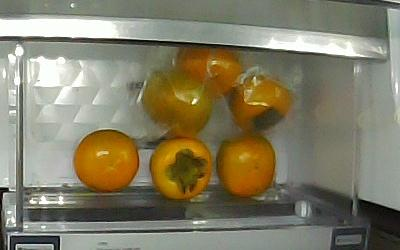persimmon: (74, 128, 139, 193), (148, 138, 212, 199), (217, 135, 277, 200)
persimmon_vinyl: (142, 70, 211, 136), (231, 74, 294, 134), (177, 46, 242, 96)
